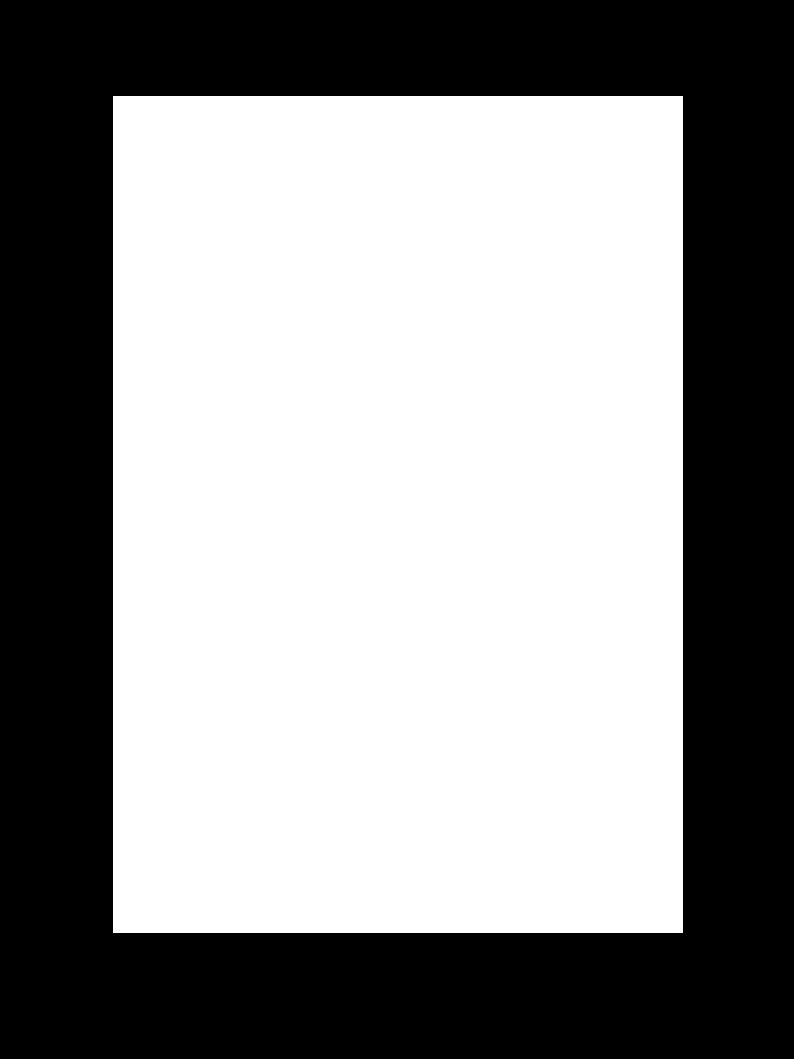table: (113, 96, 682, 932)
